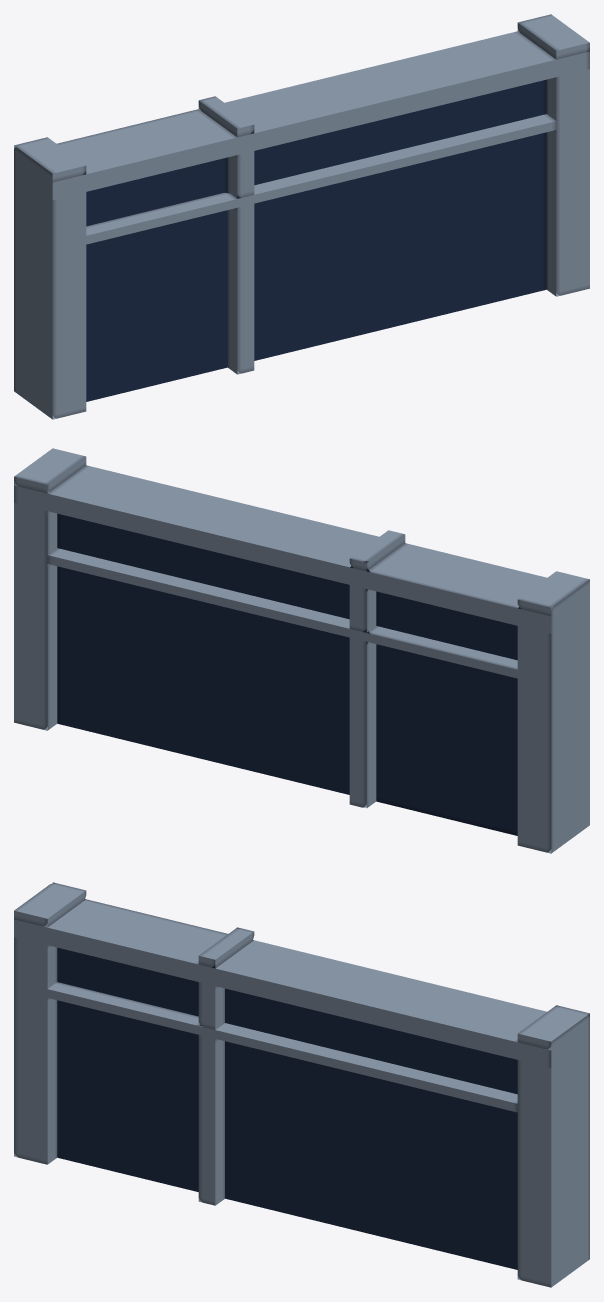
The model's file is okienko_pelne.dae.
3 views of the same model, one above another, from view 1: azimuth 30°, elevation 25°; view 2: azimuth 150°, elevation 25°; view 3: azimuth 330°, elevation 25° (orthographic).
Parts seen in each view (by area): view 1: Content; view 2: Content; view 3: Content.
Boxes of the visible parts, left/top/right/bottom form: Content: left=14, top=14, right=589, bottom=419; Content: left=14, top=448, right=589, bottom=853; Content: left=14, top=882, right=589, bottom=1287.
Size of the model in its own units: 64 by 28 by 8.
Materials: 1 (1 with a texture image).
